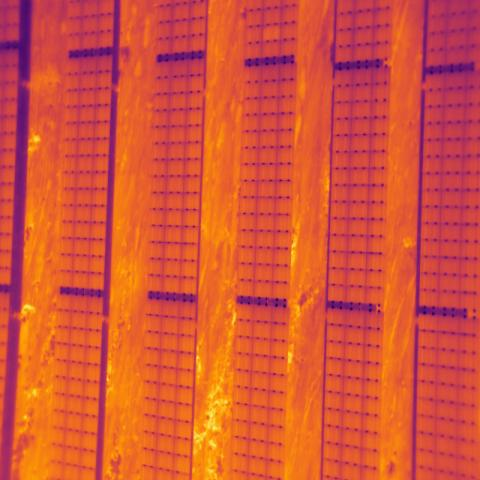fault: (263, 24, 281, 42)
